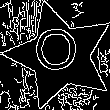O_S: (37, 29, 84, 82)
